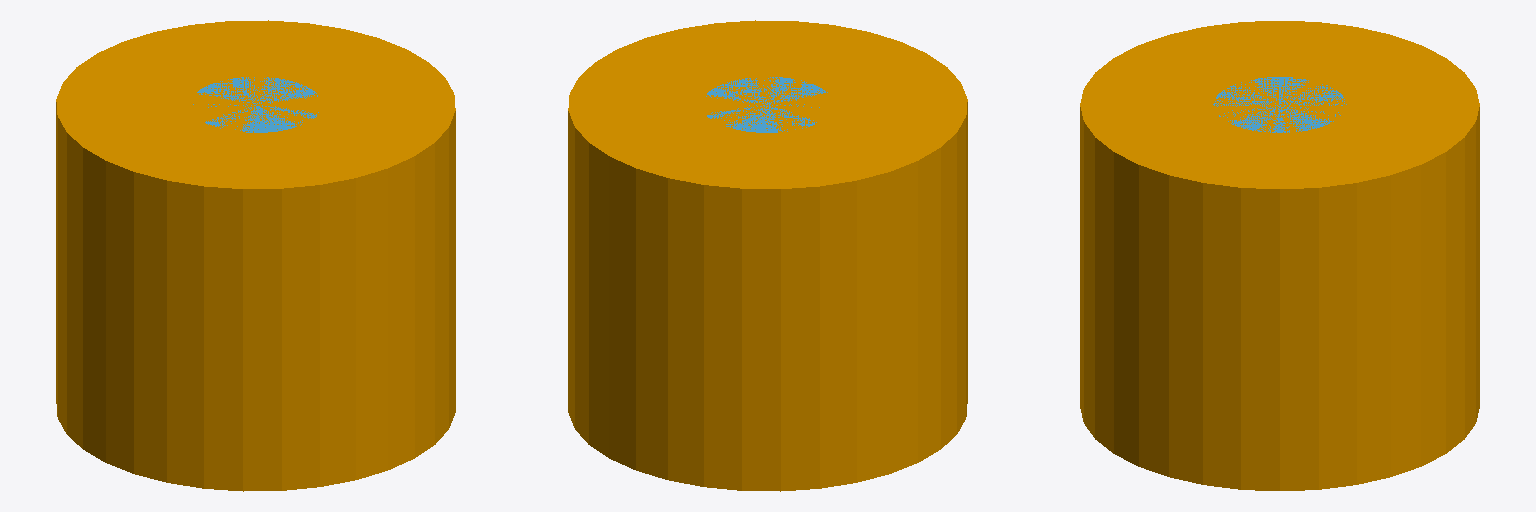
robot.urdf — 1_pole:
<?xml version="1.0"?>

<robot name="1_pole">

    <!-- The base --> 
    <link name="base_link">
        <inertial>
            <origin xyz="0 0 .5" rpy="0 0 0"/>
            <mass value="1"/>
            <inertia ixx="0.1" ixy="0.0" ixz="0.0" iyy="0.1" iyz="0.0" izz="0.1"/>
        </inertial>
        <visual>
            <origin xyz="0 0 .5" rpy="0 0 0"/>
            <geometry>
                <cylinder length="1" radius="0.6"/>
            </geometry>
        </visual>
        <collision>
            <origin xyz="0 0 .5" rpy="0 0 0"/>
            <geometry>
                <cylinder length="1" radius="0.6"/>
            </geometry>
        </collision>
    </link>

    <!-- 0 -->
    <link name="0_link">
        <inertial>
            <origin xyz="0 0 0" rpy="0 0 0"/>
            <mass value="1"/>
            <inertia ixx="0.01" ixy="0.0" ixz="0.0" iyy="0.01" iyz="0.0" izz="0.01"/>
        </inertial>
        <visual>
            <origin xyz="0 0 0" rpy="0 0 0"/>
            <geometry>
                <cylinder length="1" radius="0.2"/>
            </geometry>
        </visual>
        <collision>
            <origin xyz="0 0 0" rpy="0 0 0"/>
            <geometry>
                <cylinder length="1" radius="0.2"/>
            </geometry>
        </collision>
    </link>

    <!-- Joint from base to 0 -->
    <joint name="base_0_joint" type="fixed">
        <parent link="base_link"/>
        <child link="0_link"/>
        <origin xyz="0 0 0.5" rpy="0 0 0"/>
    </joint>

</robot>

--- Facts derived from the render (not from the file) ---
3 views of the same robot in one strip: view 1: azimuth 30°, elevation 25°; view 2: azimuth 150°, elevation 25°; view 3: azimuth 270°, elevation 25° (orthographic).
Model 1_pole with 2 links and 1 joints (1 fixed), rooted at base_link, posed every joint at zero.
Visible links, largest first — view 1: base_link, 0_link; view 2: base_link, 0_link; view 3: base_link, 0_link.
Link boxes in pixels (x1,y1,x2,y2): base_link: [56, 20, 455, 491]; 0_link: [193, 77, 318, 132]; base_link: [568, 20, 967, 491]; 0_link: [706, 77, 827, 132]; base_link: [1080, 21, 1479, 490]; 0_link: [1213, 77, 1346, 132].
Size in the robot's own frame: 1.2 by 1.2 by 1 metres.
Geometry: primitives only (box / cylinder / sphere), no mesh files.
